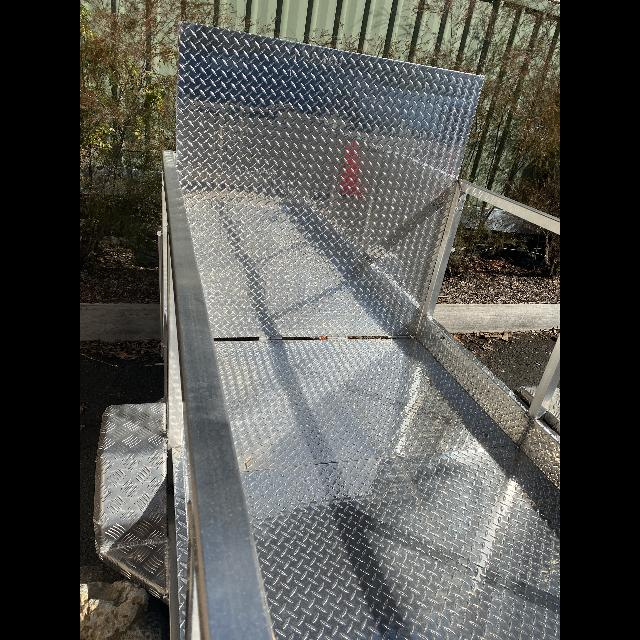Aluminium: (94, 20, 560, 640)
Ferrous Metal: (240, 0, 413, 40)
